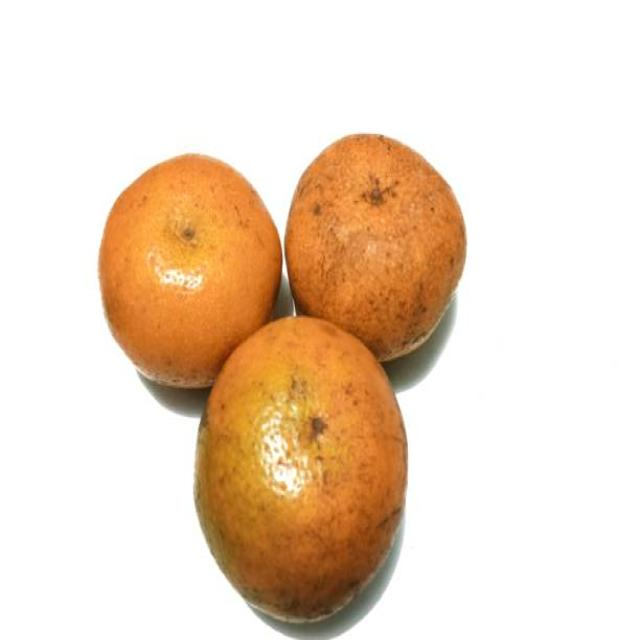overripe: (194, 316, 410, 629), (95, 146, 285, 394), (289, 124, 470, 366)
